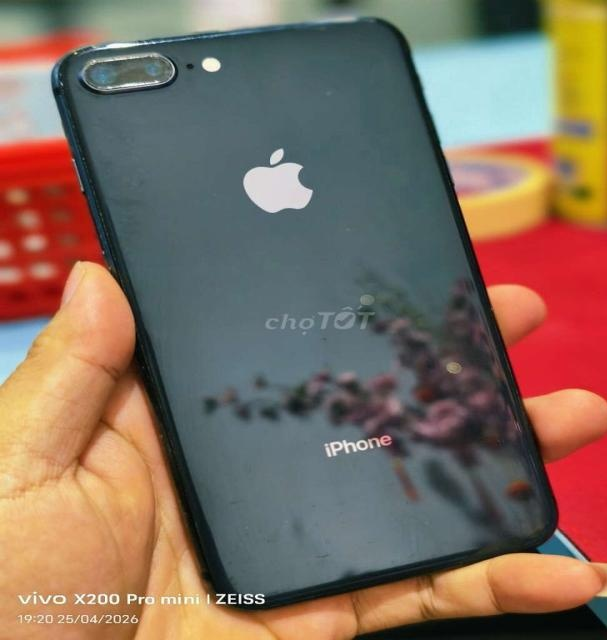scratch: (54, 41, 189, 98), (295, 7, 382, 27), (184, 21, 234, 39)
